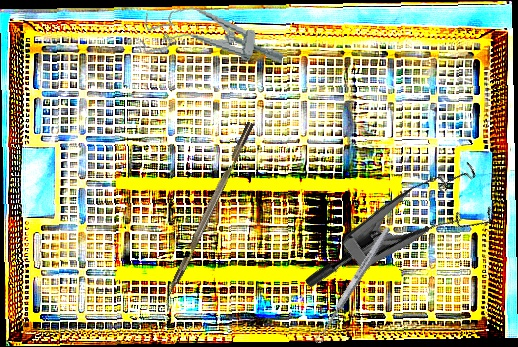Chopper: (157, 121, 264, 314)
Speculum: (302, 134, 510, 347), (138, 0, 289, 74)
Surgical Spoon: (312, 224, 393, 346)
